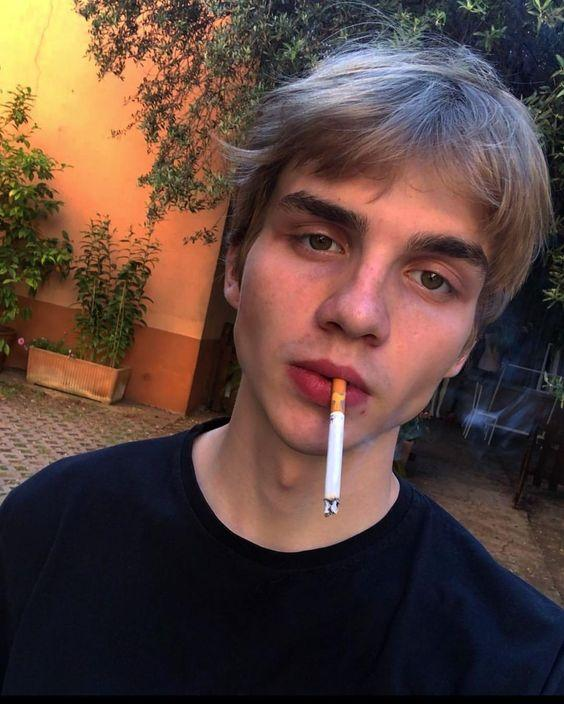cigarette: (323, 376, 346, 517)
